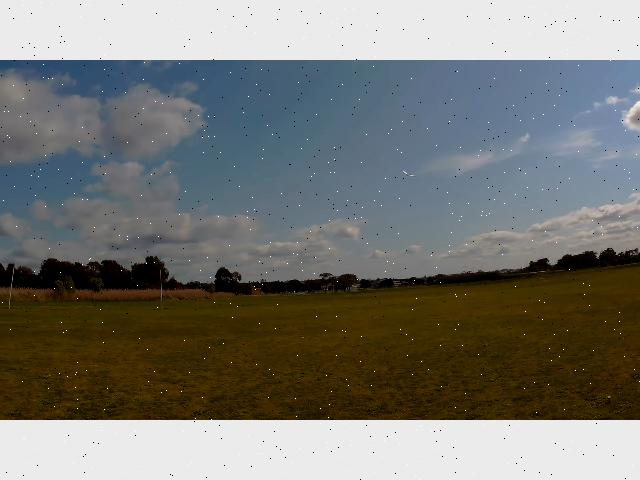Anti-Drone: (403, 171, 415, 177)
